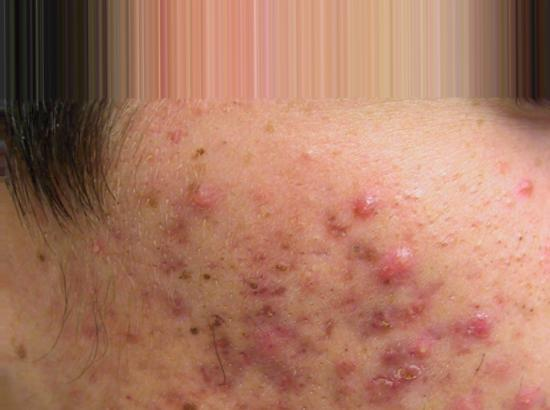Acne: (370, 272, 519, 384), (134, 224, 214, 325), (220, 307, 319, 376), (330, 183, 425, 249), (354, 221, 423, 309), (240, 262, 316, 337), (322, 315, 398, 372), (170, 165, 221, 226), (120, 317, 168, 357)
